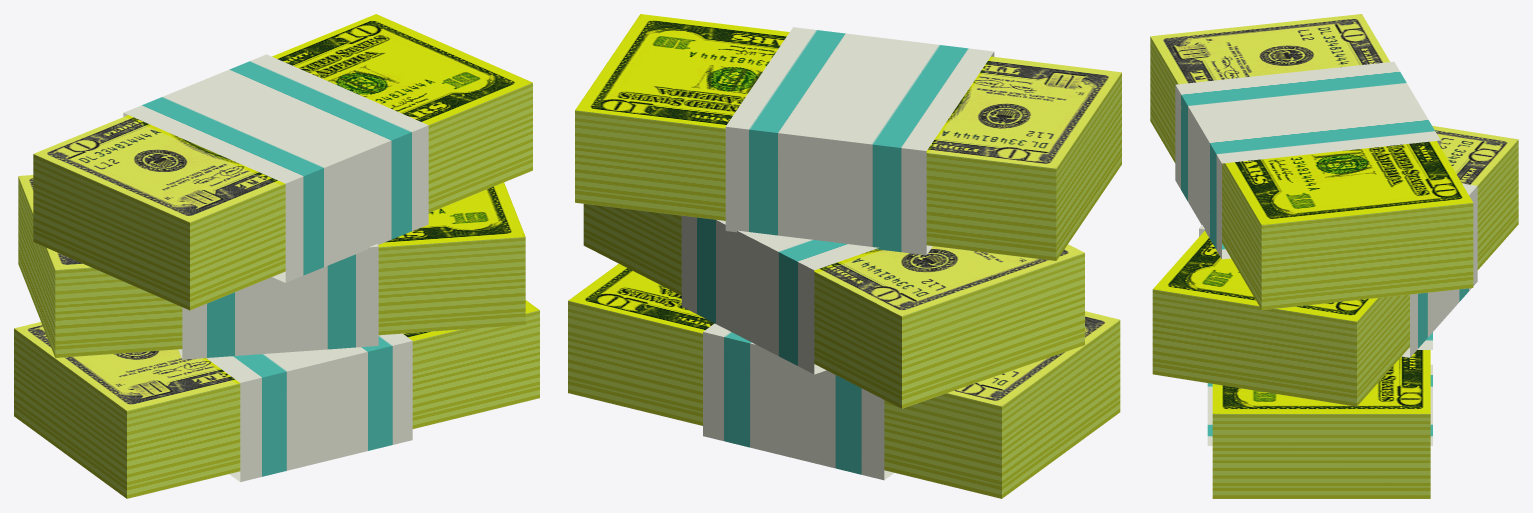
The model's file is Dollar stack.fbx.
The picture shows the model from 3 angles, left to right: view 1: azimuth 30°, elevation 25°; view 2: azimuth 150°, elevation 25°; view 3: azimuth 270°, elevation 25°; orthographic projection. The views are drawn at different scales.
Parts seen in each view (by area): view 1: Dollar Stack, Dollar Stack.002, Dollar Stack.001; view 2: Dollar Stack, Dollar Stack.002, Dollar Stack.001; view 3: Dollar Stack, Dollar Stack.001, Dollar Stack.002.
Part boxes in pixels (x1,y1,x2,y2): Dollar Stack: (33,14,532,310); Dollar Stack.002: (14,300,539,498); Dollar Stack.001: (18,175,525,359); Dollar Stack: (575,14,1121,260); Dollar Stack.002: (568,264,1120,498); Dollar Stack.001: (583,204,1084,408); Dollar Stack: (1150,14,1473,309); Dollar Stack.001: (1152,125,1518,406); Dollar Stack.002: (1207,332,1432,498).
Size of the model in its own units: 343 by 218 by 248.
1 material, 1 textured.
